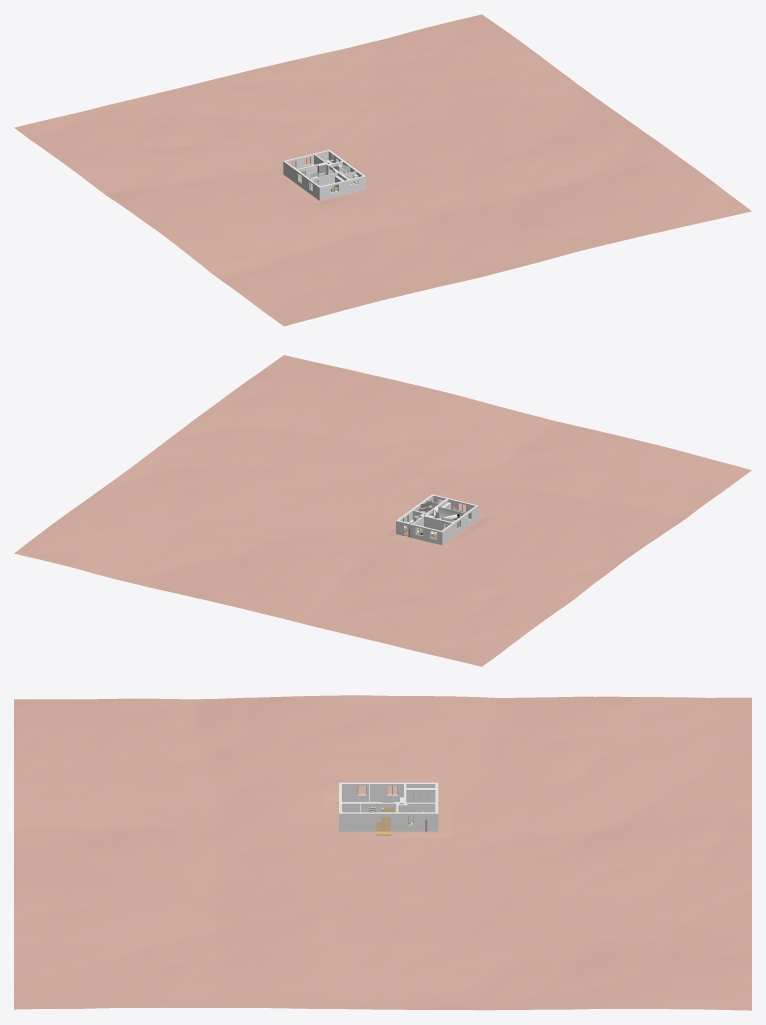
Rendered from level.glb.
The picture shows the model from 3 angles, top to bottom: view 1: azimuth 30°, elevation 25°; view 2: azimuth 150°, elevation 25°; view 3: azimuth 270°, elevation 25°; orthographic projection. The views are drawn at different scales.
Parts seen in each view (by area): view 1: Landscape, Mesh1 Group1 Model.002; view 2: Landscape, Mesh1 Group1 Model.002; view 3: Landscape, Mesh1 Group1 Model.002.
Boxes of the visible parts, box(x1,y1,x2,y2) form: Landscape: box(14, 14, 751, 326); Mesh1 Group1 Model.002: box(283, 150, 365, 200); Landscape: box(14, 355, 751, 666); Mesh1 Group1 Model.002: box(396, 494, 478, 545); Landscape: box(14, 695, 751, 1010); Mesh1 Group1 Model.002: box(339, 782, 438, 831).
Size of the model in its own units: 100 by 4.11 by 100.
